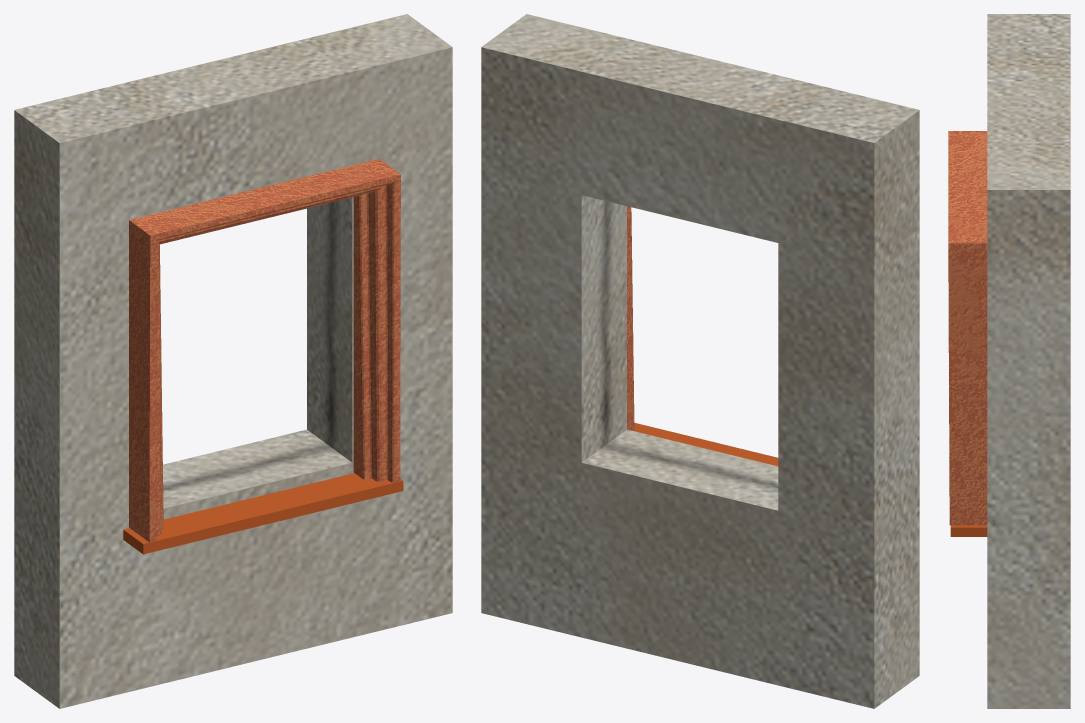
File: WindowSimple.fbx
The picture shows the model from 3 angles, left to right: view 1: azimuth 30°, elevation 25°; view 2: azimuth 150°, elevation 25°; view 3: azimuth 270°, elevation 25°; orthographic projection. The views are drawn at different scales.
Visible parts, largest first — view 1: Wall_2m75, DecorT, DecorB; view 2: Wall_2m75, DecorT, DecorB; view 3: Wall_2m75, DecorT, DecorB.
Boxes of the visible parts, <box> form: Wall_2m75: <box>14,14,452,708</box>; DecorT: <box>129,159,400,542</box>; DecorB: <box>123,473,403,554</box>; Wall_2m75: <box>481,14,919,708</box>; DecorT: <box>627,206,634,431</box>; DecorB: <box>634,422,778,466</box>; Wall_2m75: <box>987,14,1070,708</box>; DecorT: <box>948,131,987,525</box>; DecorB: <box>950,525,987,536</box>.
Size of the model in its own units: 200 by 275 by 58.75.
3 materials, 2 textured.
